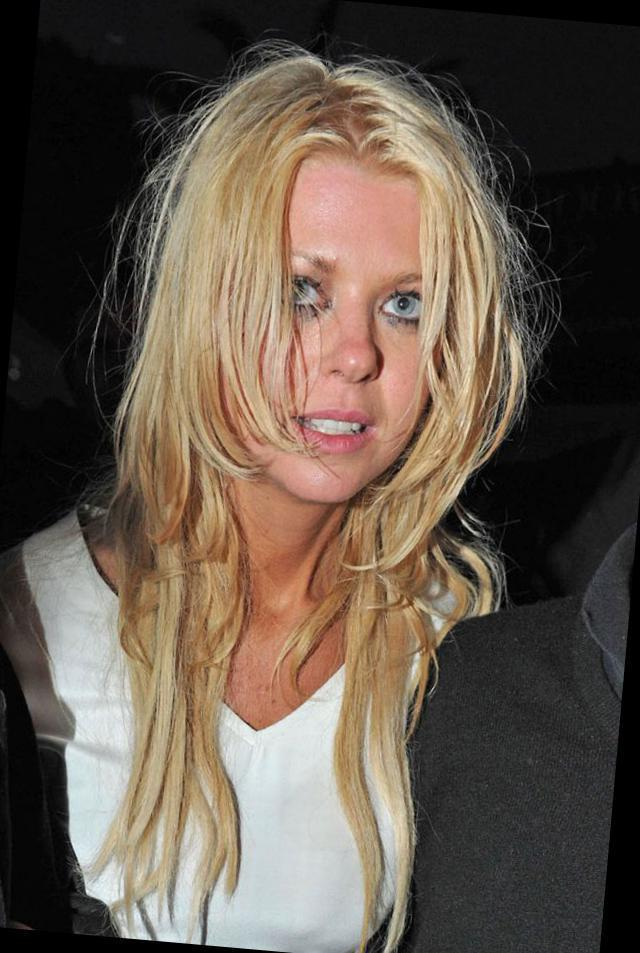Drunk: (241, 156, 431, 495)
